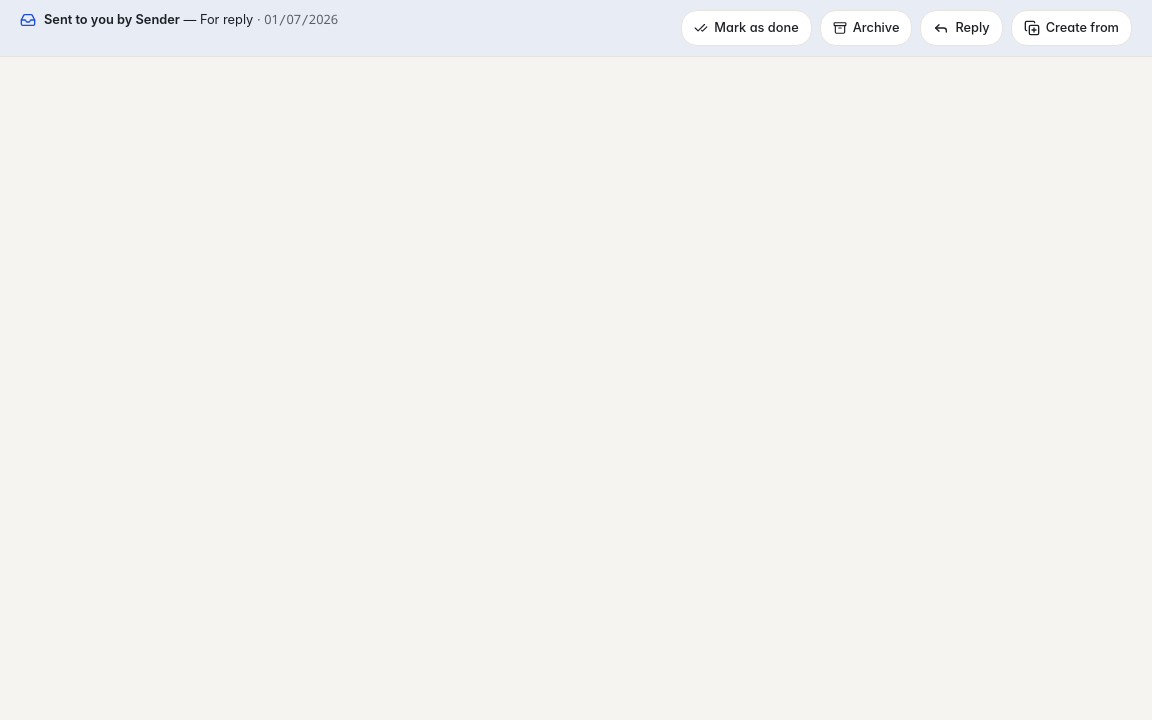
Scenario: derive and reply actions › offers Reply and Create from on a received strip without losing the inbox tools
Expected: the button "Create from" is enabled, 1011,10 -> 1132,46
Expected: the button "Mark as done" is enabled, 681,10 -> 812,46
Click the button "Reply".
click(962, 28)  # box 920,10 -> 1003,46
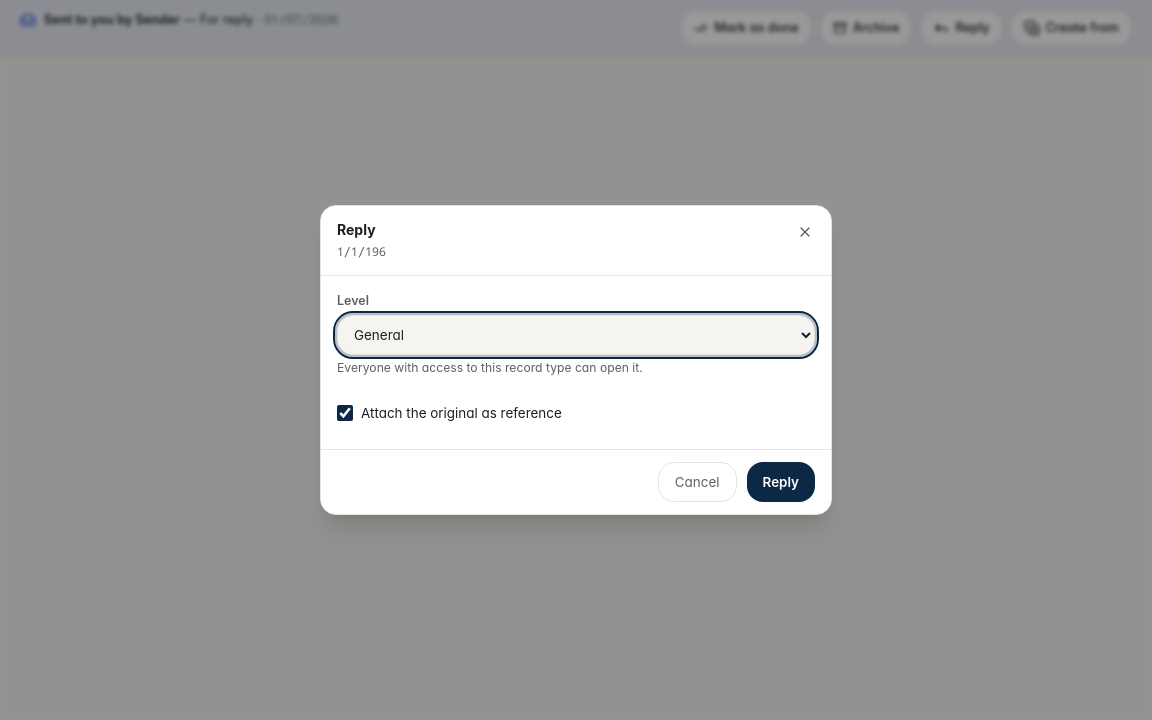
Expected: the dialog "Reply" is shown, 320,205 -> 832,515
